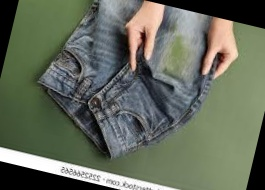earth: (163, 32, 195, 76)
